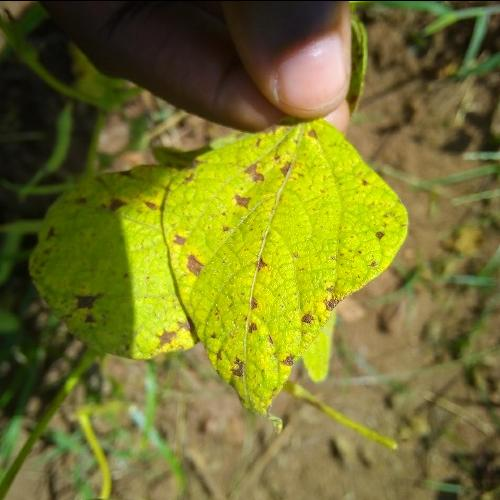hawar: (170, 90, 364, 426), (59, 165, 176, 390)
